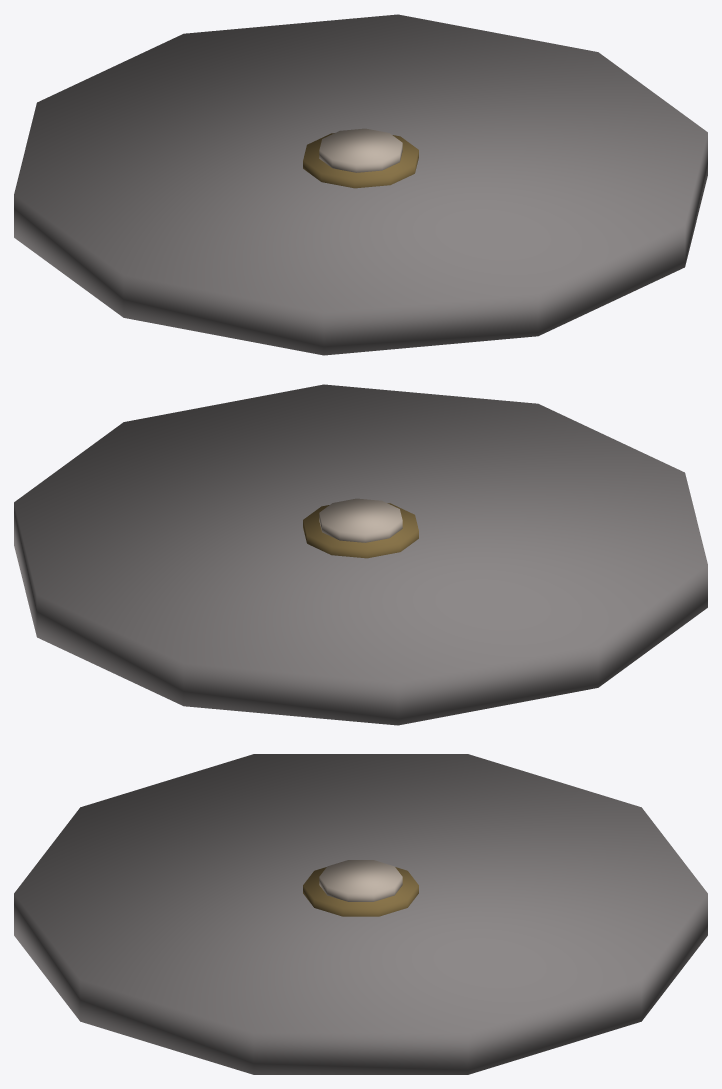
File: cameo_brooch.glb
3 renders of one model, top to bottom at view 1: azimuth 30°, elevation 25°; view 2: azimuth 150°, elevation 25°; view 3: azimuth 270°, elevation 25°, orthographic. The views are drawn at different scales.
Visible parts, largest first — view 1: cameo_brooch; view 2: cameo_brooch; view 3: cameo_brooch.
Boxes of the visible parts, x1,y1,x2,y2 form: cameo_brooch: (14, 14, 707, 355); cameo_brooch: (14, 384, 707, 725); cameo_brooch: (14, 754, 707, 1074).
Bounding box in the file's own units: 0.2853 × 0.028 × 0.3.
